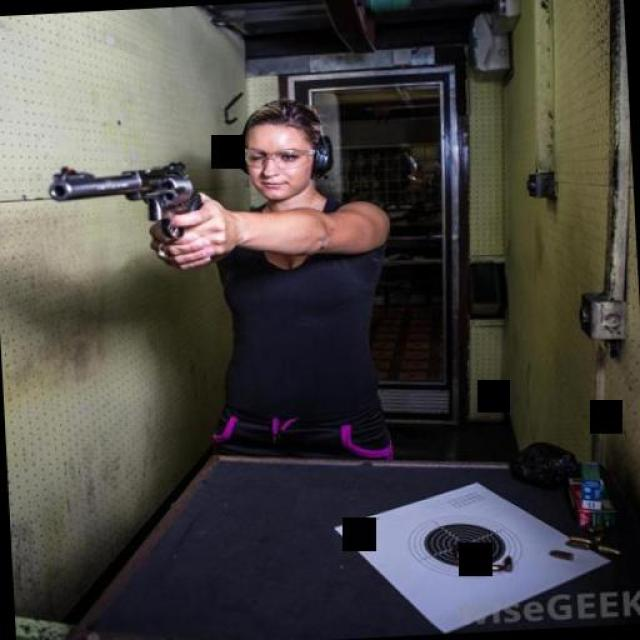gun: (49, 157, 208, 245)
